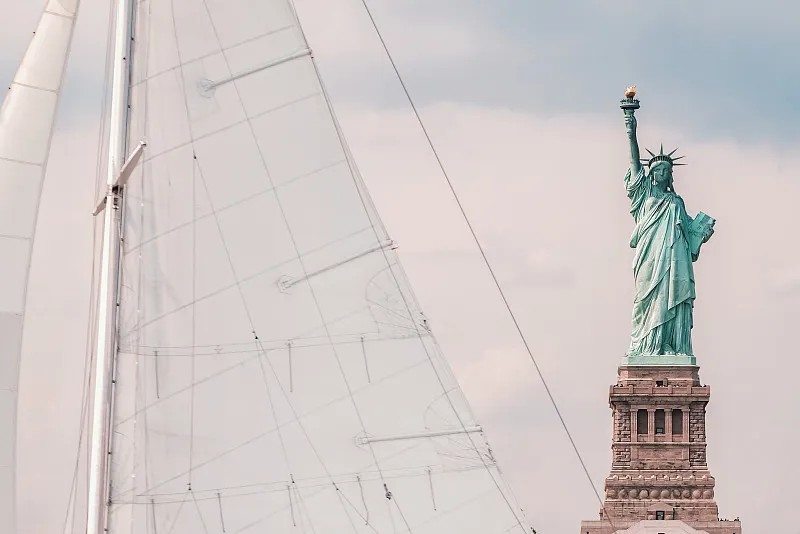SL: (598, 86, 719, 523)
